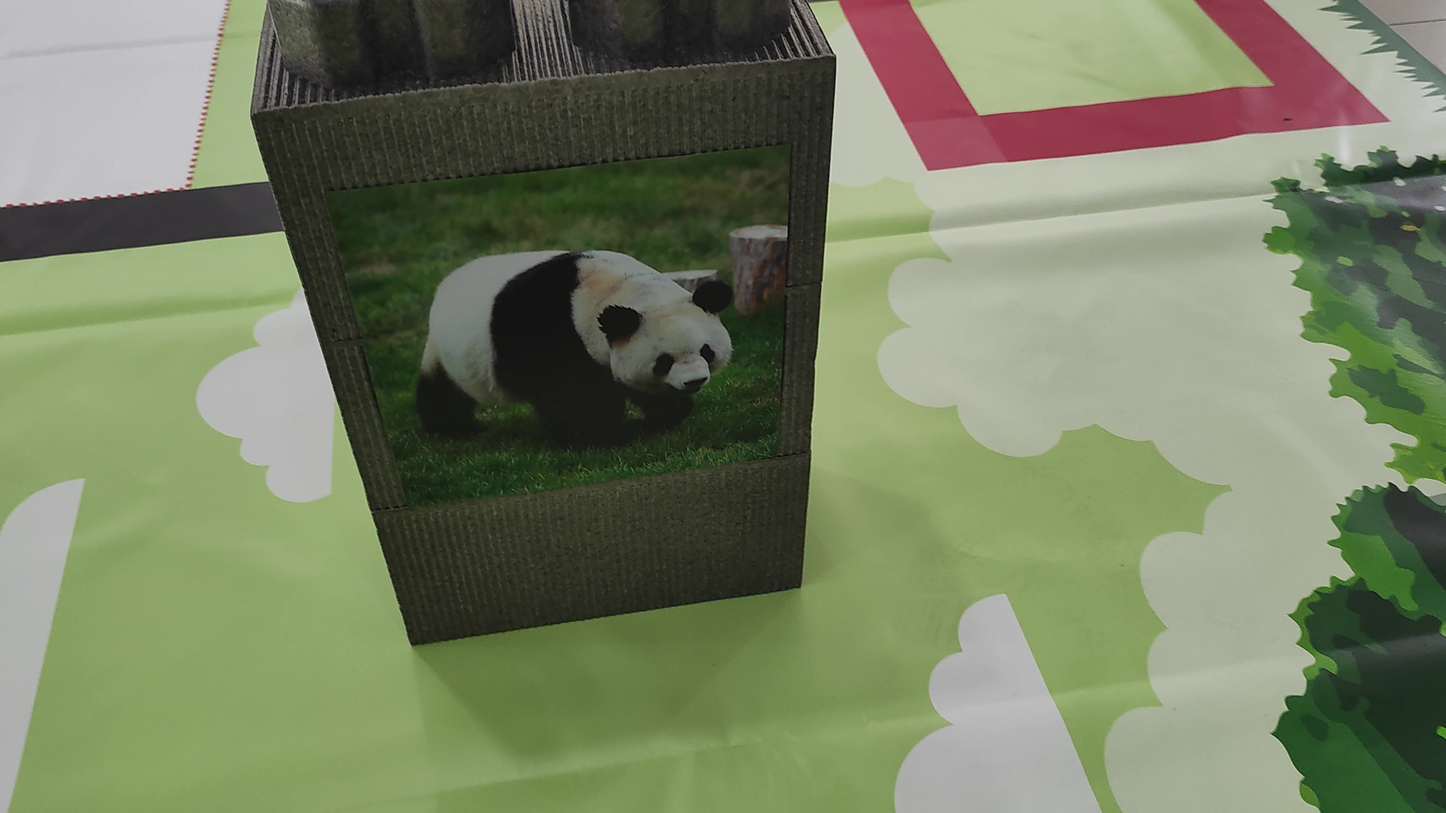panda: (389, 222, 746, 486)
